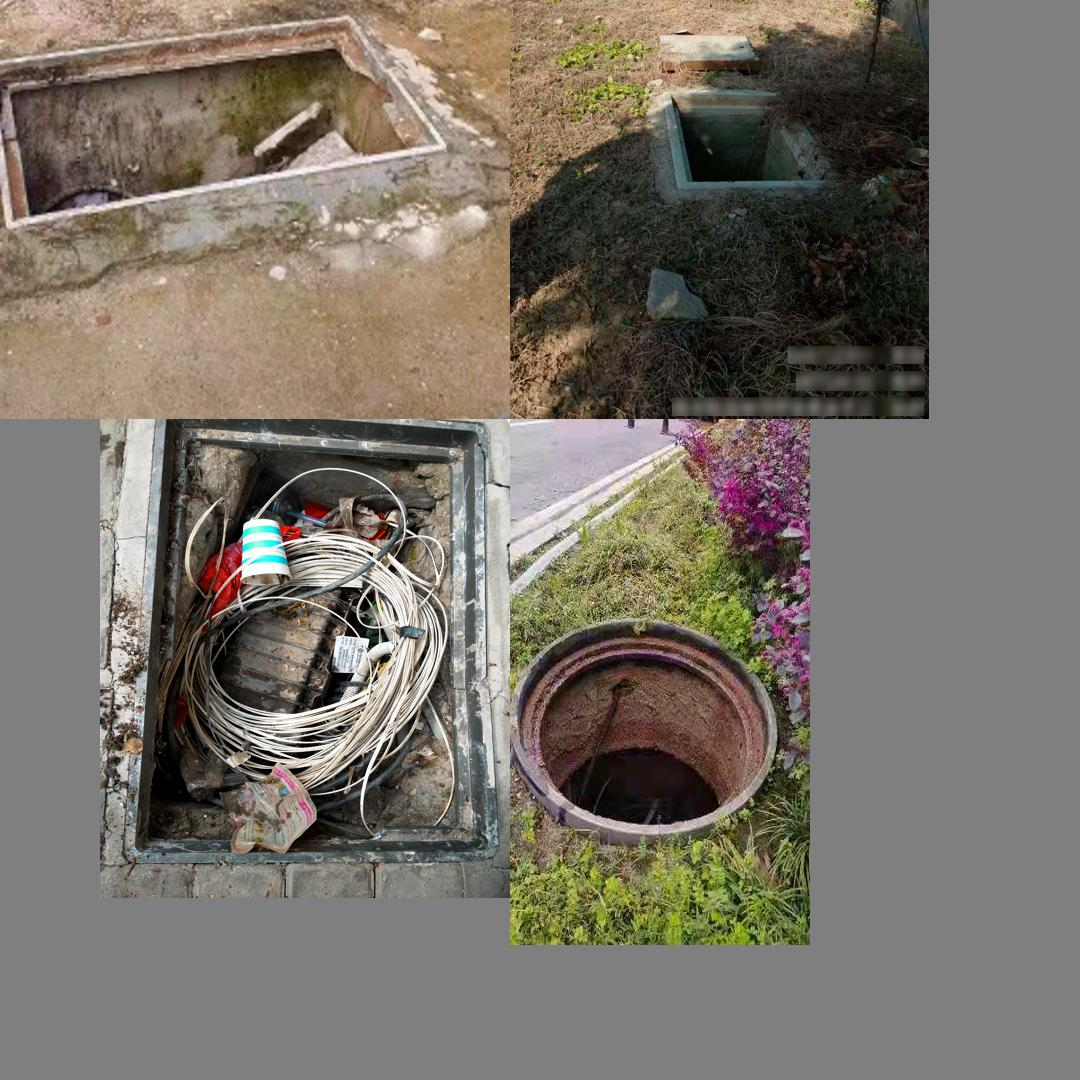lose: (125, 419, 499, 867), (0, 14, 444, 228), (514, 599, 791, 840), (662, 88, 843, 191)
